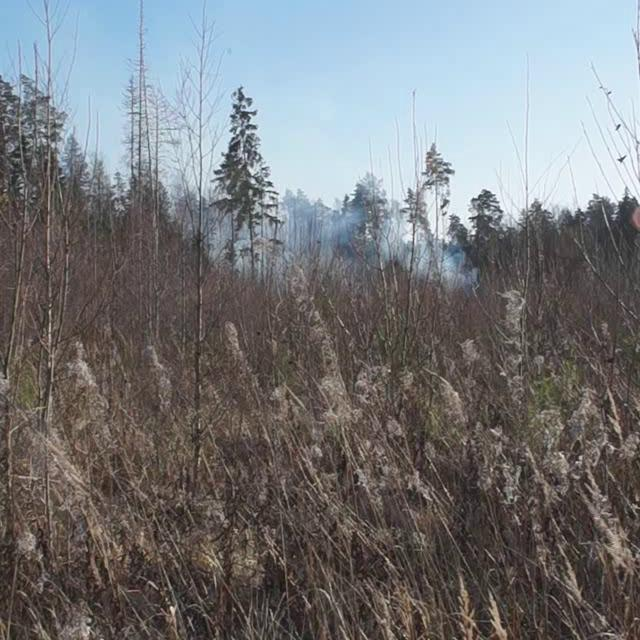Smoke: (159, 164, 490, 308)
